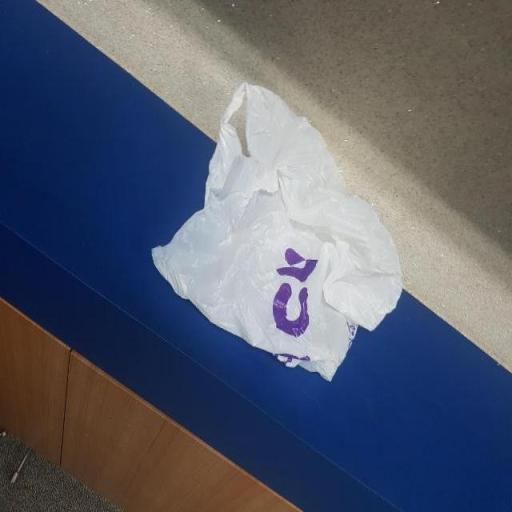plastic-bag: (148, 74, 404, 388)
